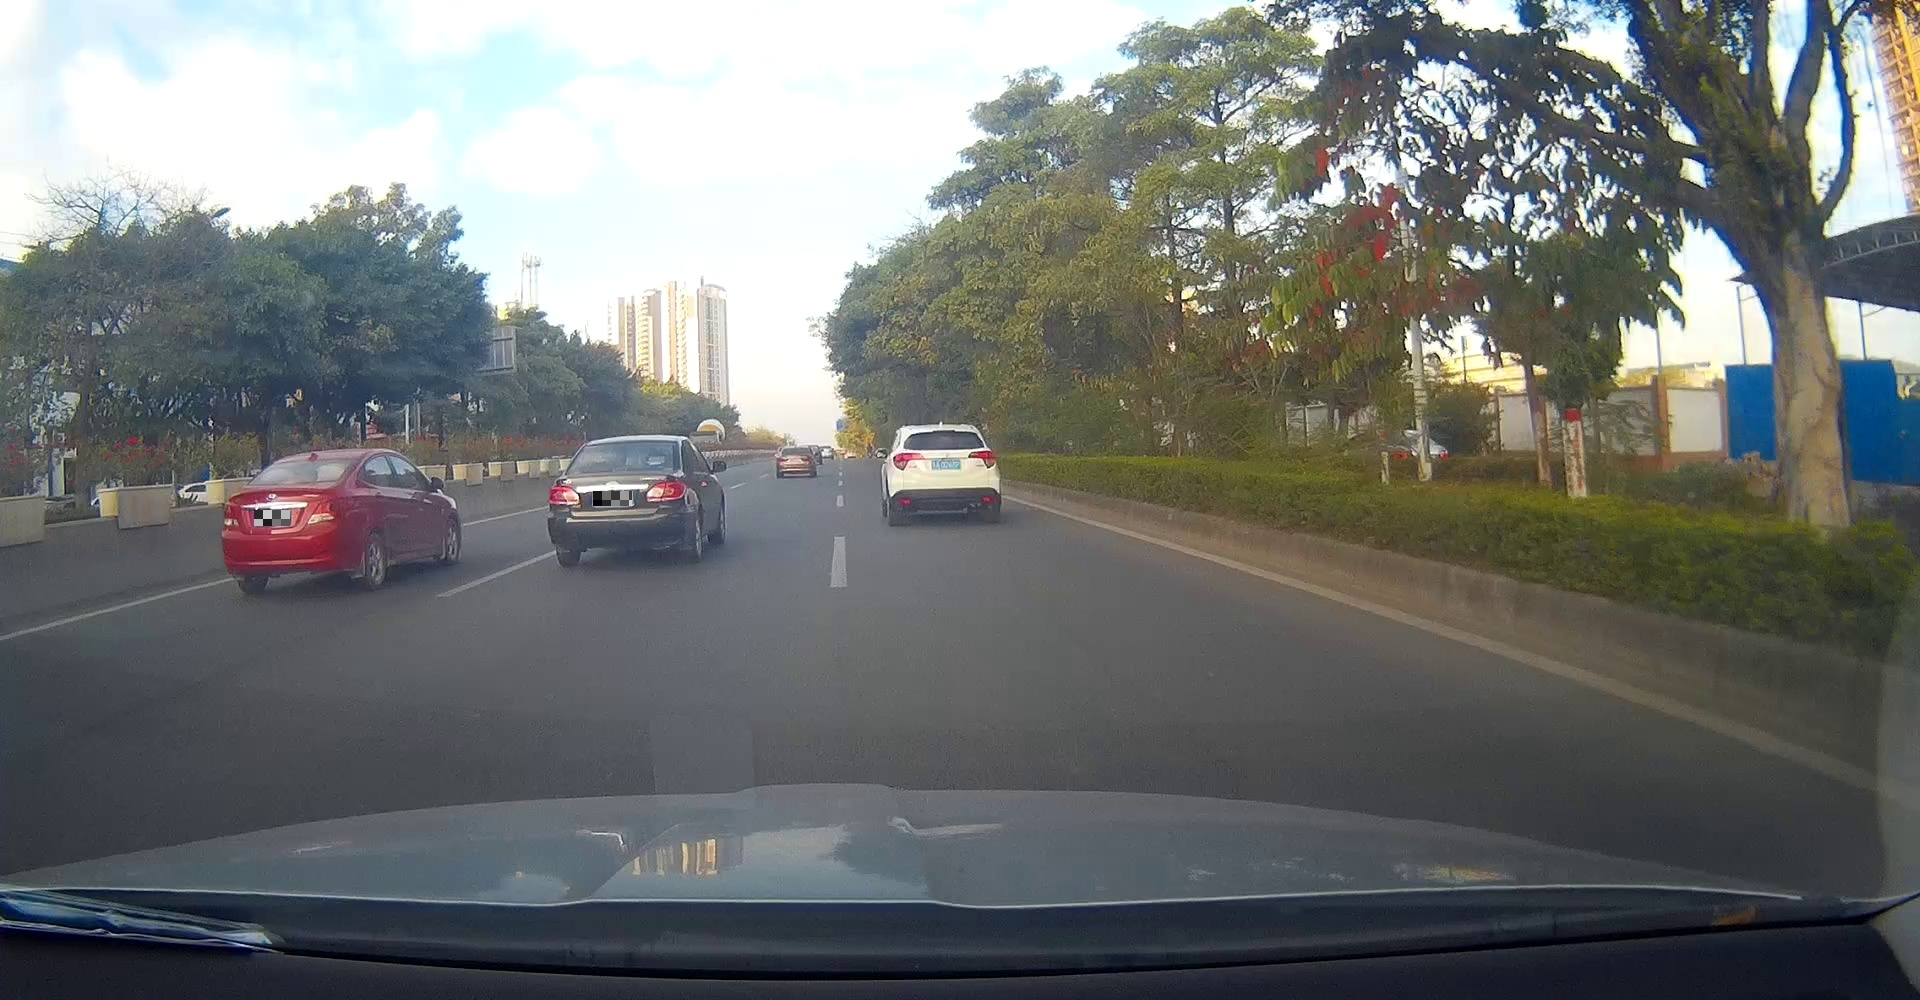L_light: (549, 486, 580, 505), (891, 452, 924, 470), (222, 504, 243, 528), (777, 457, 789, 462)
R_light: (306, 497, 339, 524), (646, 481, 686, 501), (968, 451, 996, 470), (800, 456, 811, 461)
T_light: (298, 461, 321, 464), (617, 442, 637, 445), (937, 431, 951, 434), (792, 449, 800, 451)
day-no: (221, 451, 357, 595), (546, 437, 687, 567), (891, 425, 997, 525), (776, 447, 811, 478)
plate_1: (254, 510, 290, 525)
plate_2: (593, 491, 632, 506)
